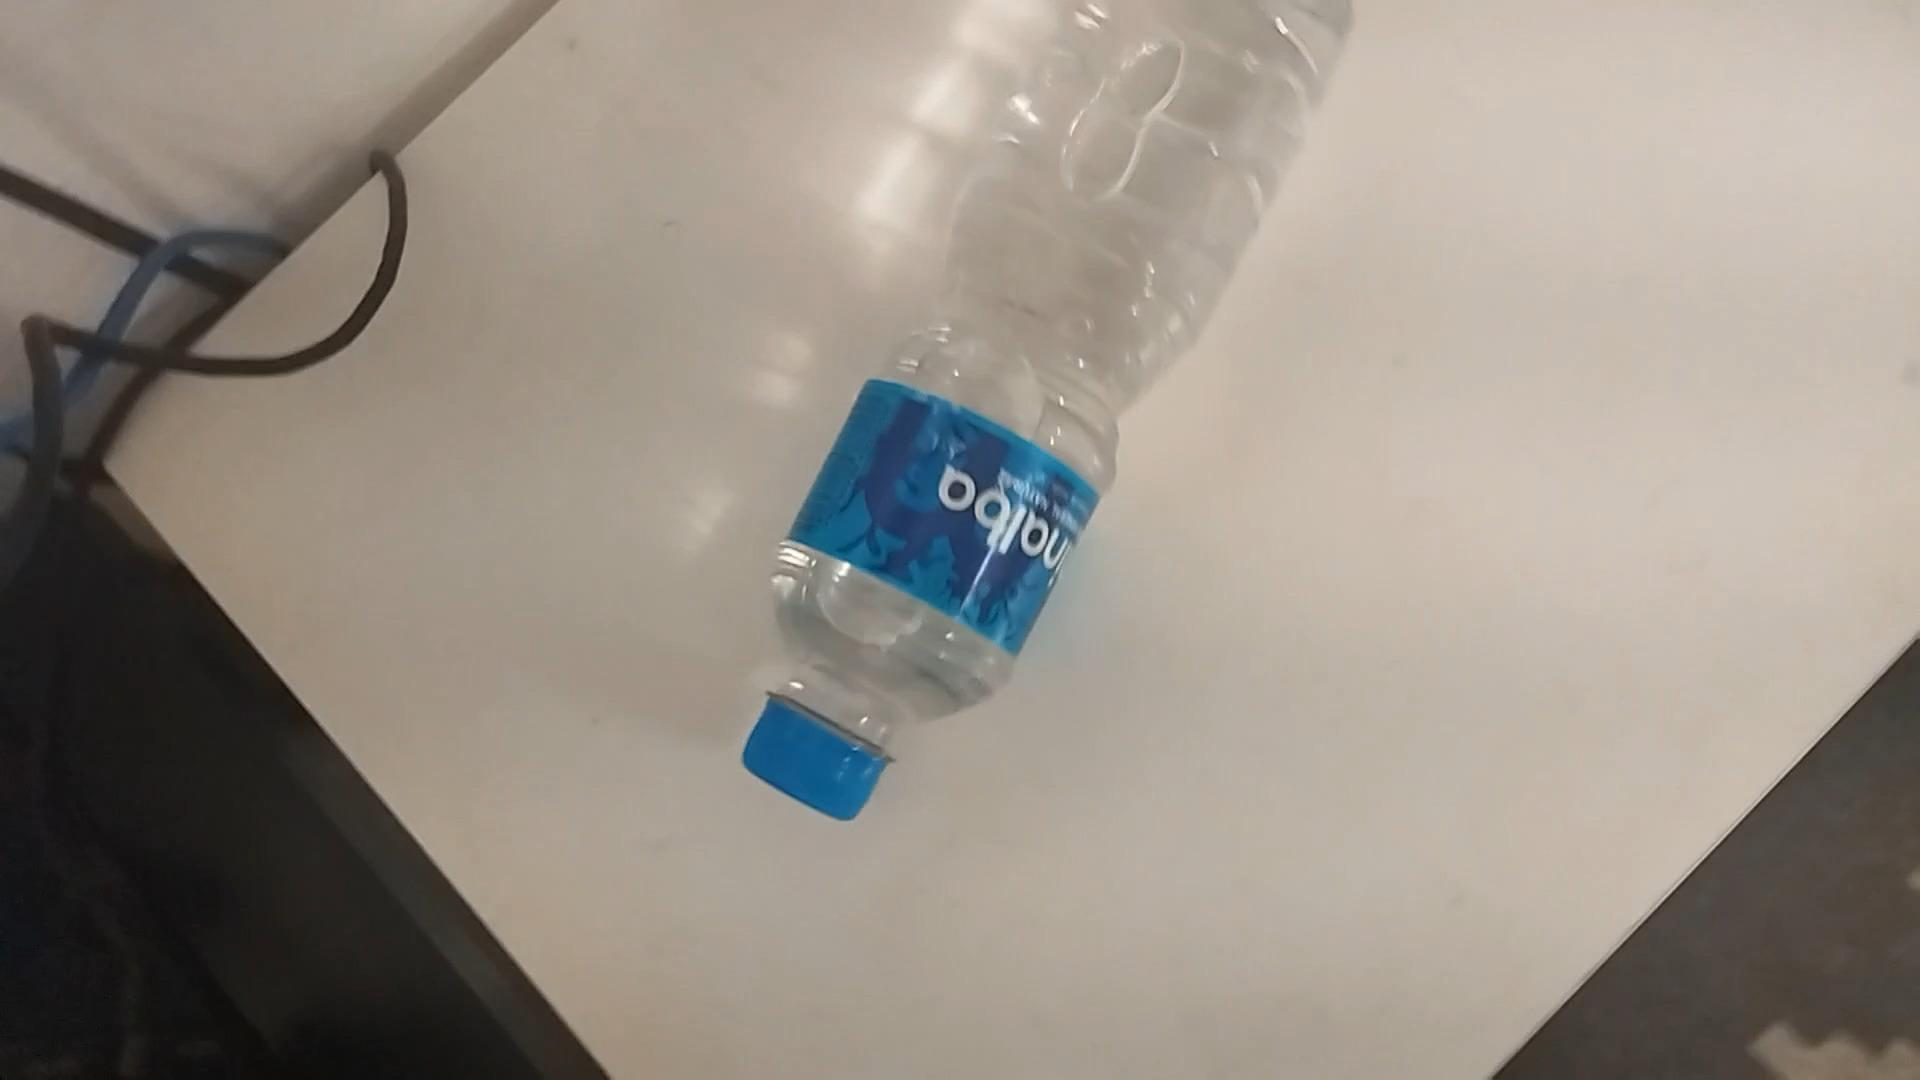agua: (744, 1, 1349, 824)
